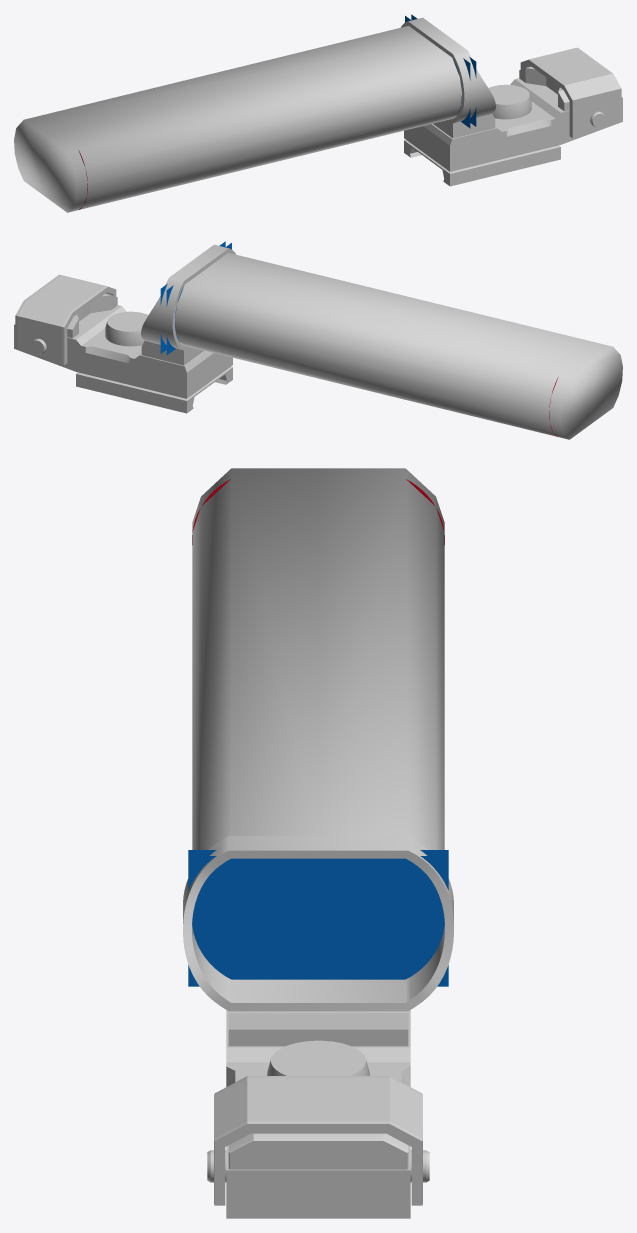
Rendered from Holosights export.fbx.
3 renders of one model, top to bottom at view 1: azimuth 30°, elevation 25°; view 2: azimuth 150°, elevation 25°; view 3: azimuth 270°, elevation 25°, orthographic. The views are drawn at different scales.
Parts seen in each view (by area): view 1: Invi, HoloSight; view 2: Invi, HoloSight; view 3: Invi, HoloSight.
Part boxes in pixels (x1,y1,x2,y2): Invi: (14, 26, 461, 212); HoloSight: (401, 14, 622, 186); Invi: (175, 253, 622, 439); HoloSight: (14, 241, 235, 413); Invi: (192, 468, 444, 849); HoloSight: (183, 836, 453, 1218).
Bounding box in the file's own units: 1.96 × 0.442 × 0.4142.
